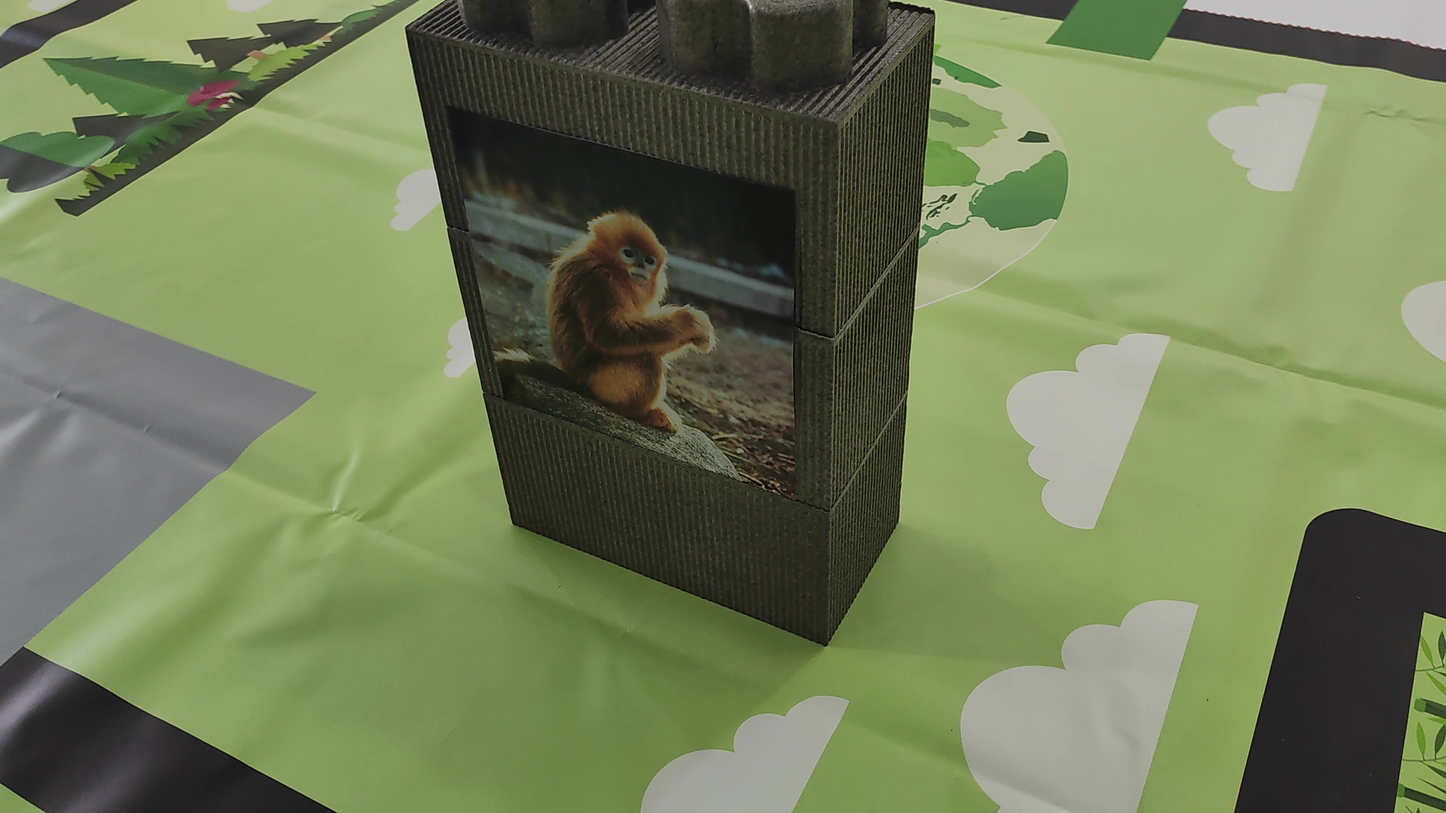monkey: (488, 171, 751, 437)
